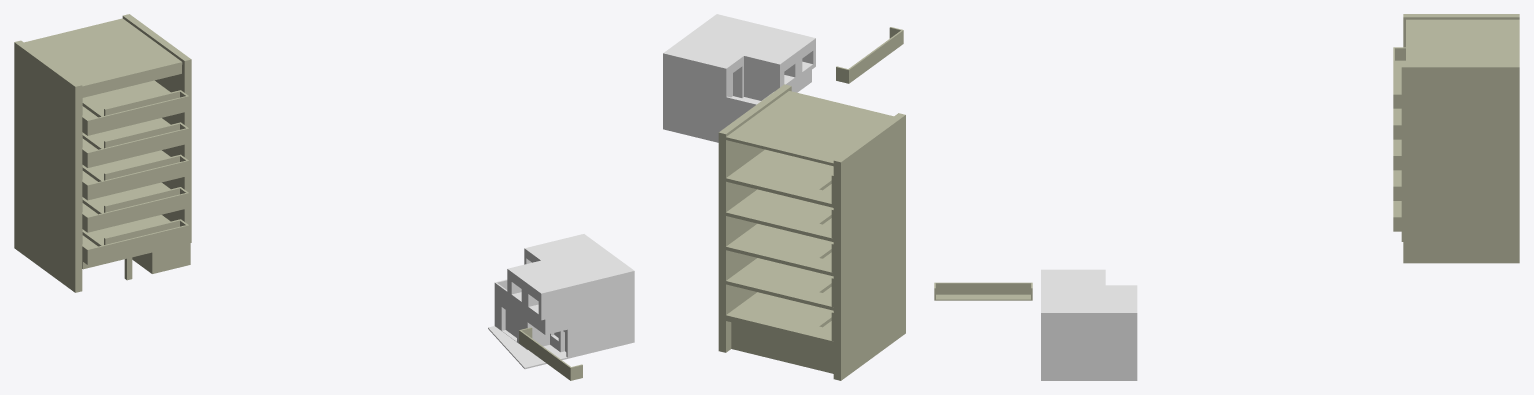
The model's file is streetScene_house_fix2.fbx.
3 renders of one model, left to right at view 1: azimuth 30°, elevation 25°; view 2: azimuth 150°, elevation 25°; view 3: azimuth 270°, elevation 25°, orthographic. The views are drawn at different scales.
Visible parts, largest first — view 1: オブジェクト_13, オブジェクト_812, オブジェクト_334; view 2: オブジェクト_13, オブジェクト_812, オブジェクト_334; view 3: オブジェクト_13, オブジェクト_812, オブジェクト_334.
Boxes of the visible parts, box(x1,y1,x2,y2) form: オブジェクト_13: box(14, 14, 191, 292); オブジェクト_812: box(488, 234, 634, 369); オブジェクト_334: box(519, 327, 582, 380); オブジェクト_13: box(718, 84, 905, 380); オブジェクト_812: box(663, 14, 815, 142); オブジェクト_334: box(836, 27, 903, 83); オブジェクト_13: box(1393, 14, 1519, 263); オブジェクト_812: box(1041, 269, 1137, 380); オブジェクト_334: box(934, 282, 1032, 300).
Bounding box in the file's own units: 3586 × 1915 × 5185.
